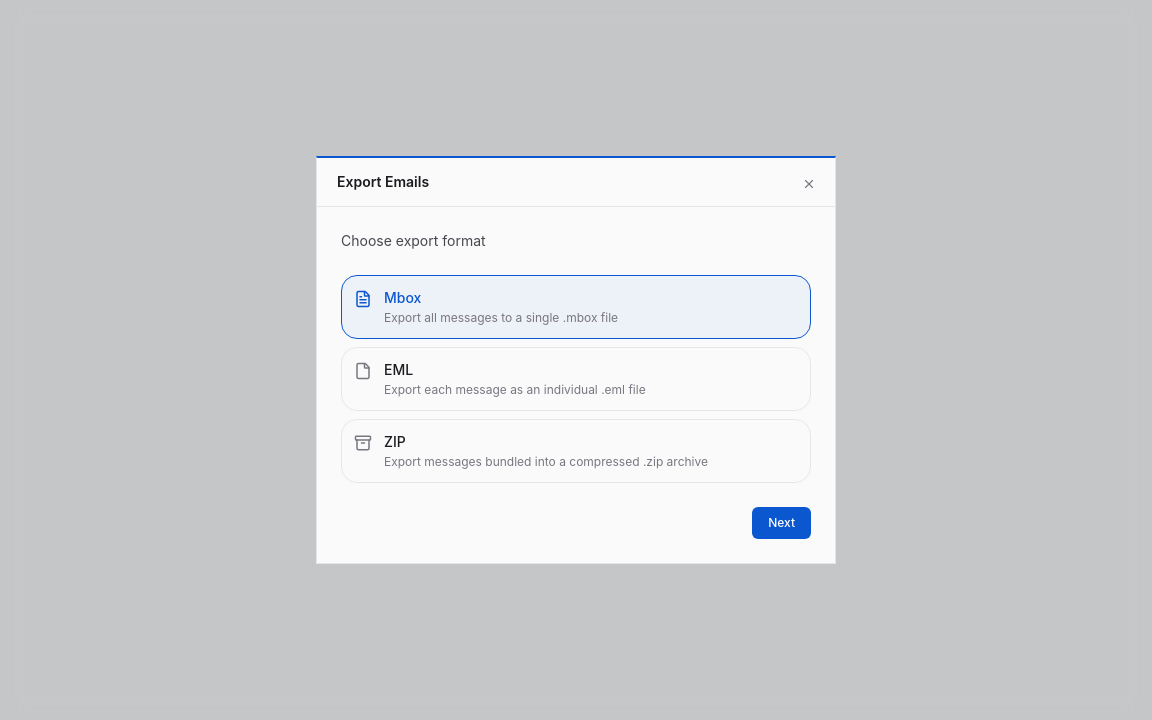
it: ExportDialog › can navigate back from filter to format step
The image size is (1152, 720).
Click the button "Next": (782, 523) [752,507,811,539]
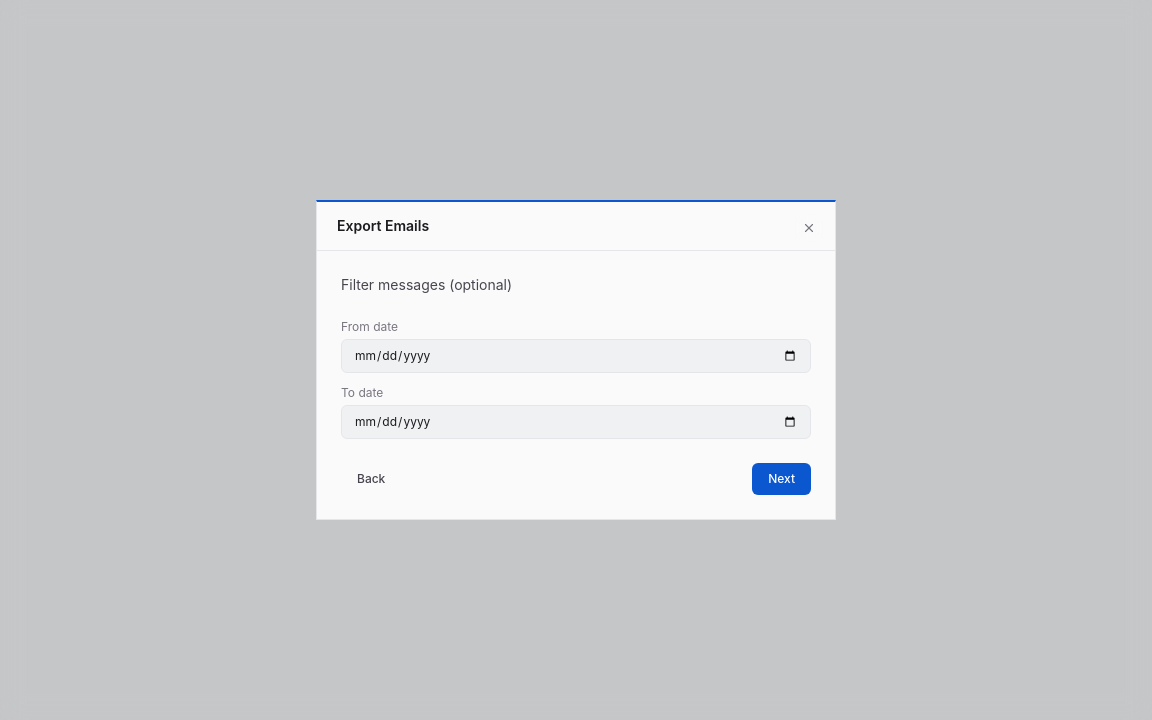
Click the button "Back": (371, 479) [341,463,401,495]
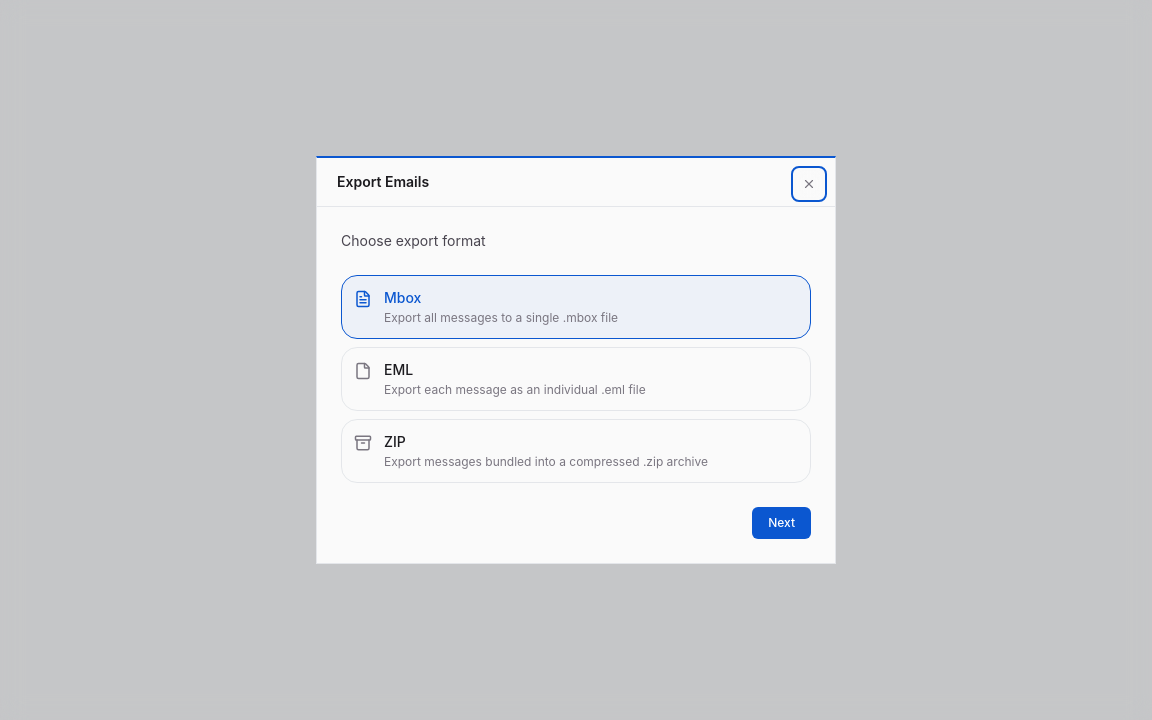
Check: the text "Choose export format" is shown, box [341,232,486,249]
